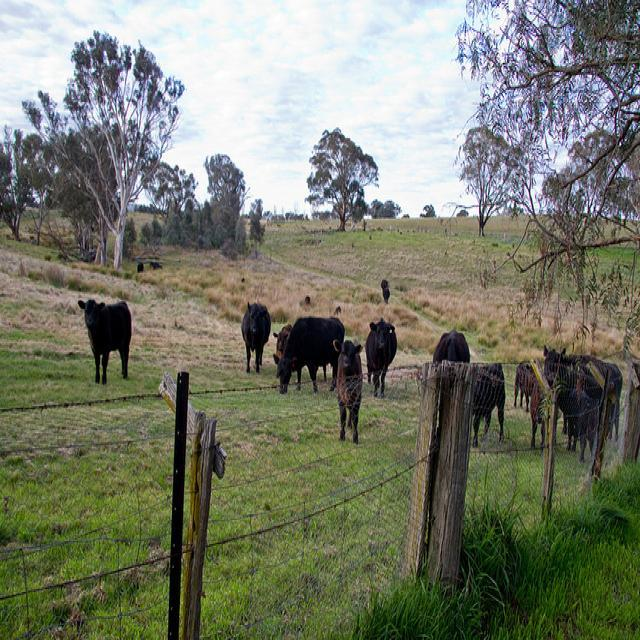cow: (133, 212, 454, 311), (541, 346, 621, 438), (271, 315, 344, 391), (75, 297, 130, 382), (557, 385, 610, 460), (331, 337, 362, 442), (472, 358, 504, 448), (363, 313, 397, 396), (240, 301, 270, 364), (432, 321, 472, 367), (529, 375, 544, 447), (513, 360, 530, 412), (271, 321, 290, 354), (304, 293, 309, 302)
